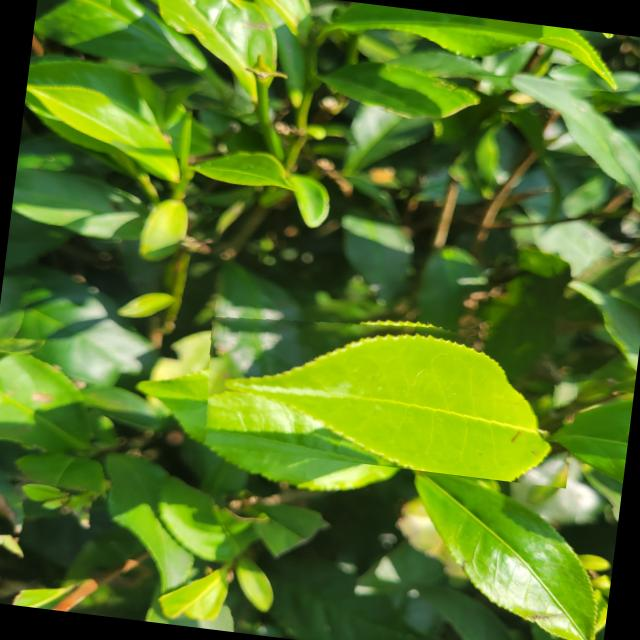Catagory A(1-2 days): (196, 289, 584, 488)
